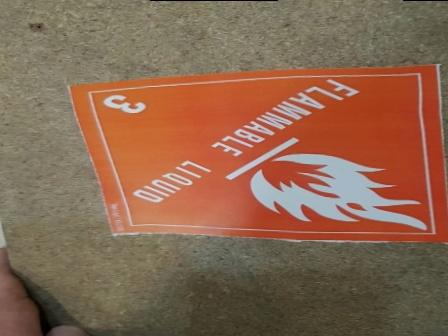flammable: (79, 74, 438, 241)
